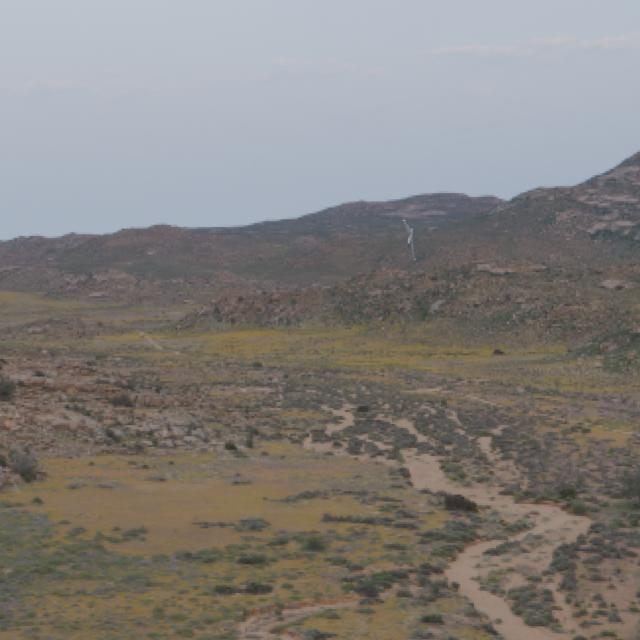Airaplan: (403, 220, 416, 260)
